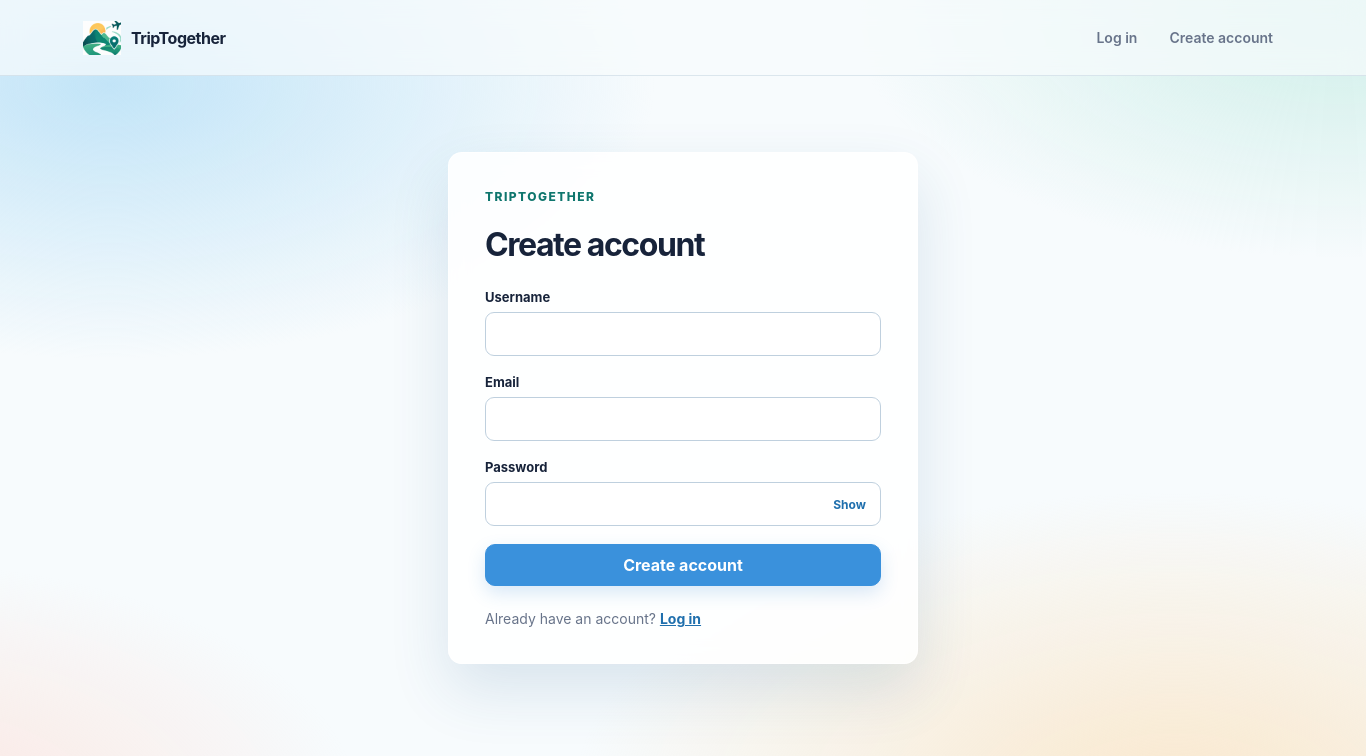
it: Register and login pages › validates required fields before sending a request
What coordinates should you click on to do the following:
click the button "Create account"
I would click on:
 (683, 565)
Its box is [485, 544, 881, 586].
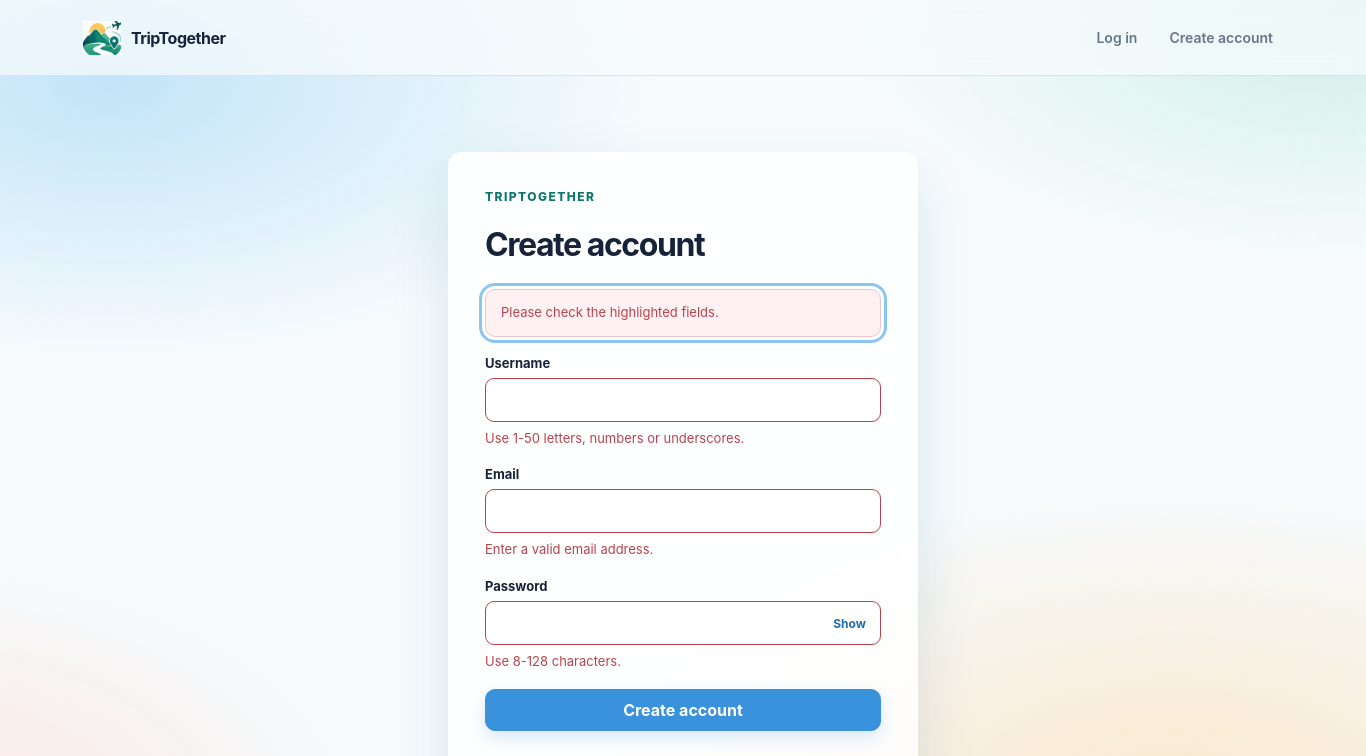
Expected: the message shows "Please check", [501, 304, 719, 320]
